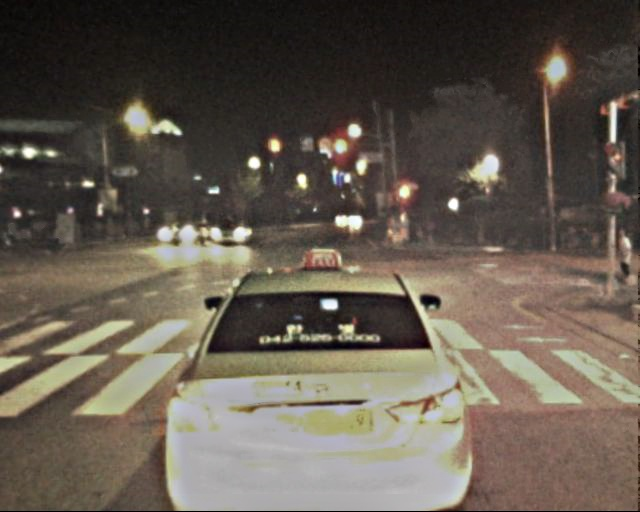person: (609, 226, 634, 286), (405, 216, 441, 248), (1, 214, 33, 249), (51, 213, 69, 258)
